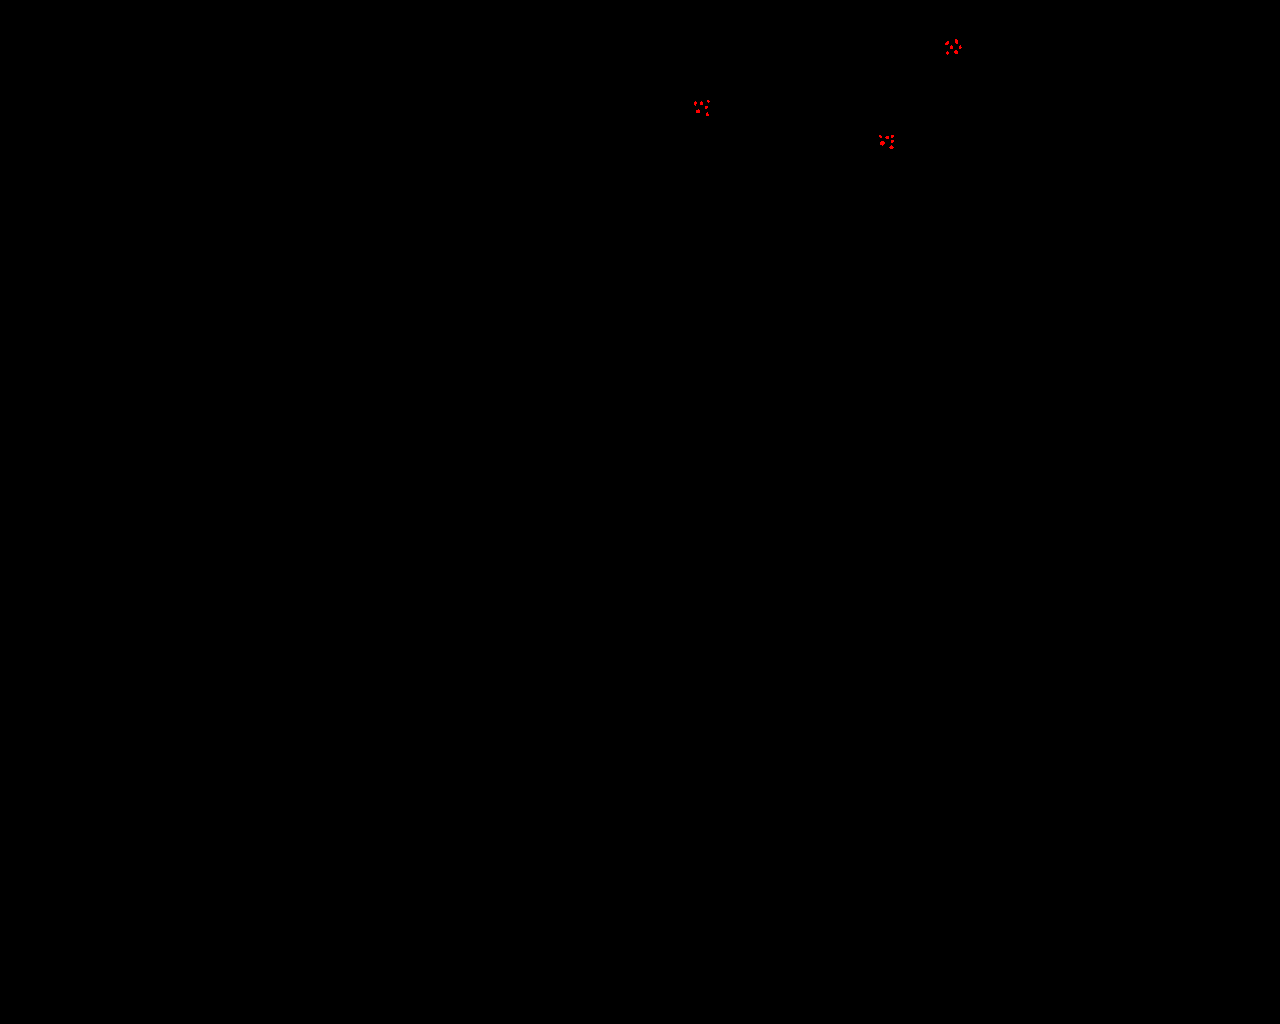Target: (880, 141, 885, 146), (889, 145, 894, 149), (945, 41, 949, 45), (954, 50, 958, 54), (696, 109, 700, 113), (955, 39, 958, 44), (950, 45, 953, 49), (959, 45, 962, 49), (946, 51, 949, 55), (694, 101, 697, 106), (706, 112, 709, 116), (885, 136, 889, 139), (700, 101, 703, 104), (705, 106, 708, 109), (879, 135, 882, 138), (891, 135, 894, 138), (891, 140, 894, 143), (707, 100, 709, 103)
